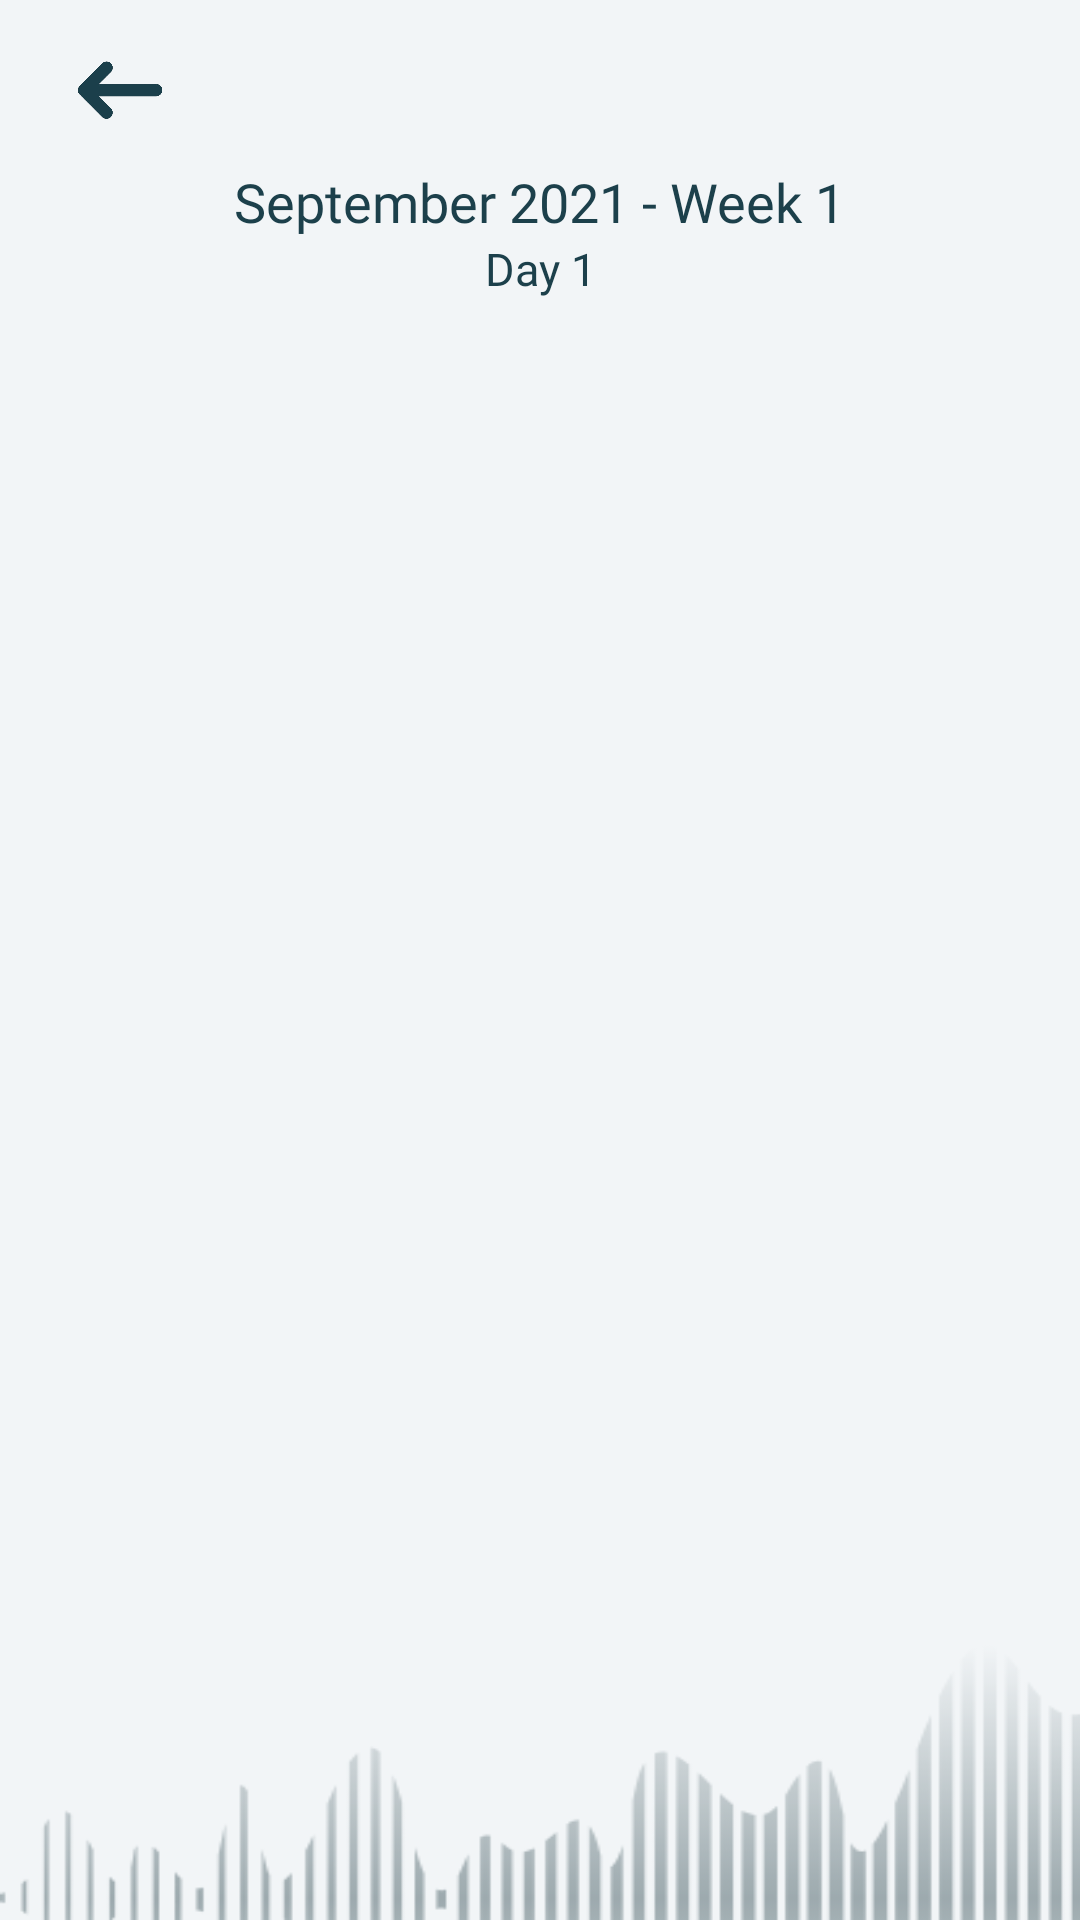

Where to tap for icons on this 1080w x 1920h app screen, as point (x, y):
back: point (120, 90)
